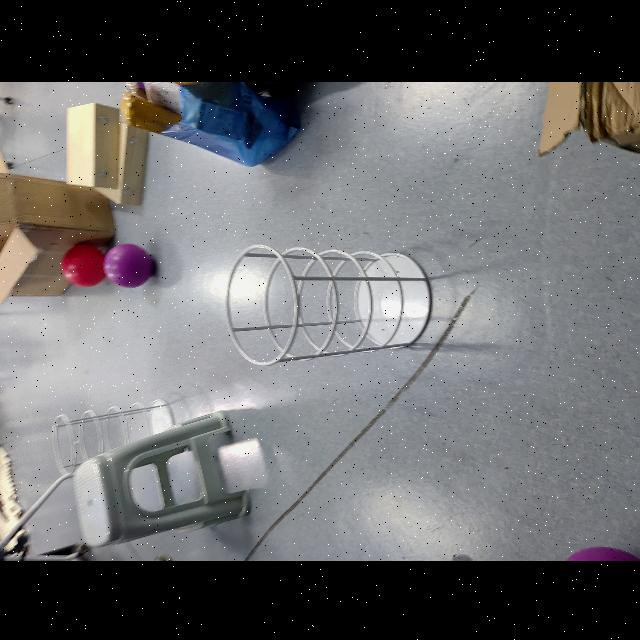S: (223, 241, 433, 367)
